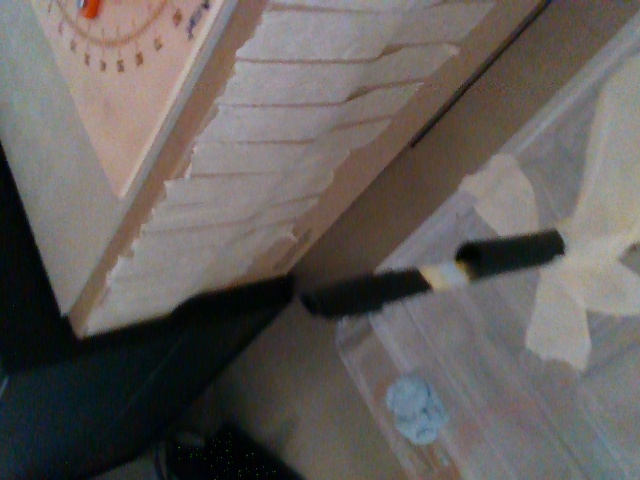test_strip: (301, 260, 469, 316)
